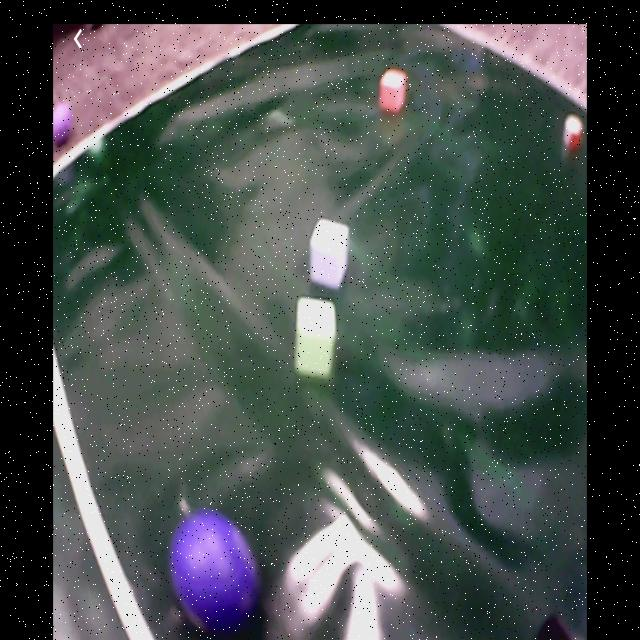ball: (171, 513, 258, 625), (55, 110, 74, 147)
